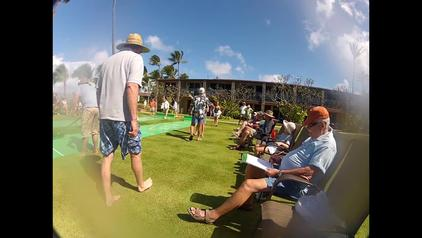crouch: (92, 32, 146, 172)
sit: (280, 111, 333, 196)
stay: (187, 91, 209, 136)
